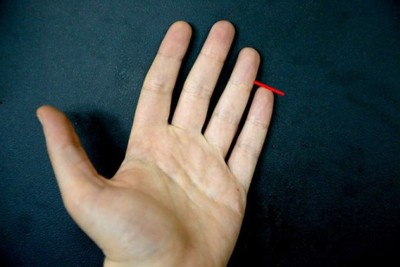mindinho: (221, 82, 292, 195)
